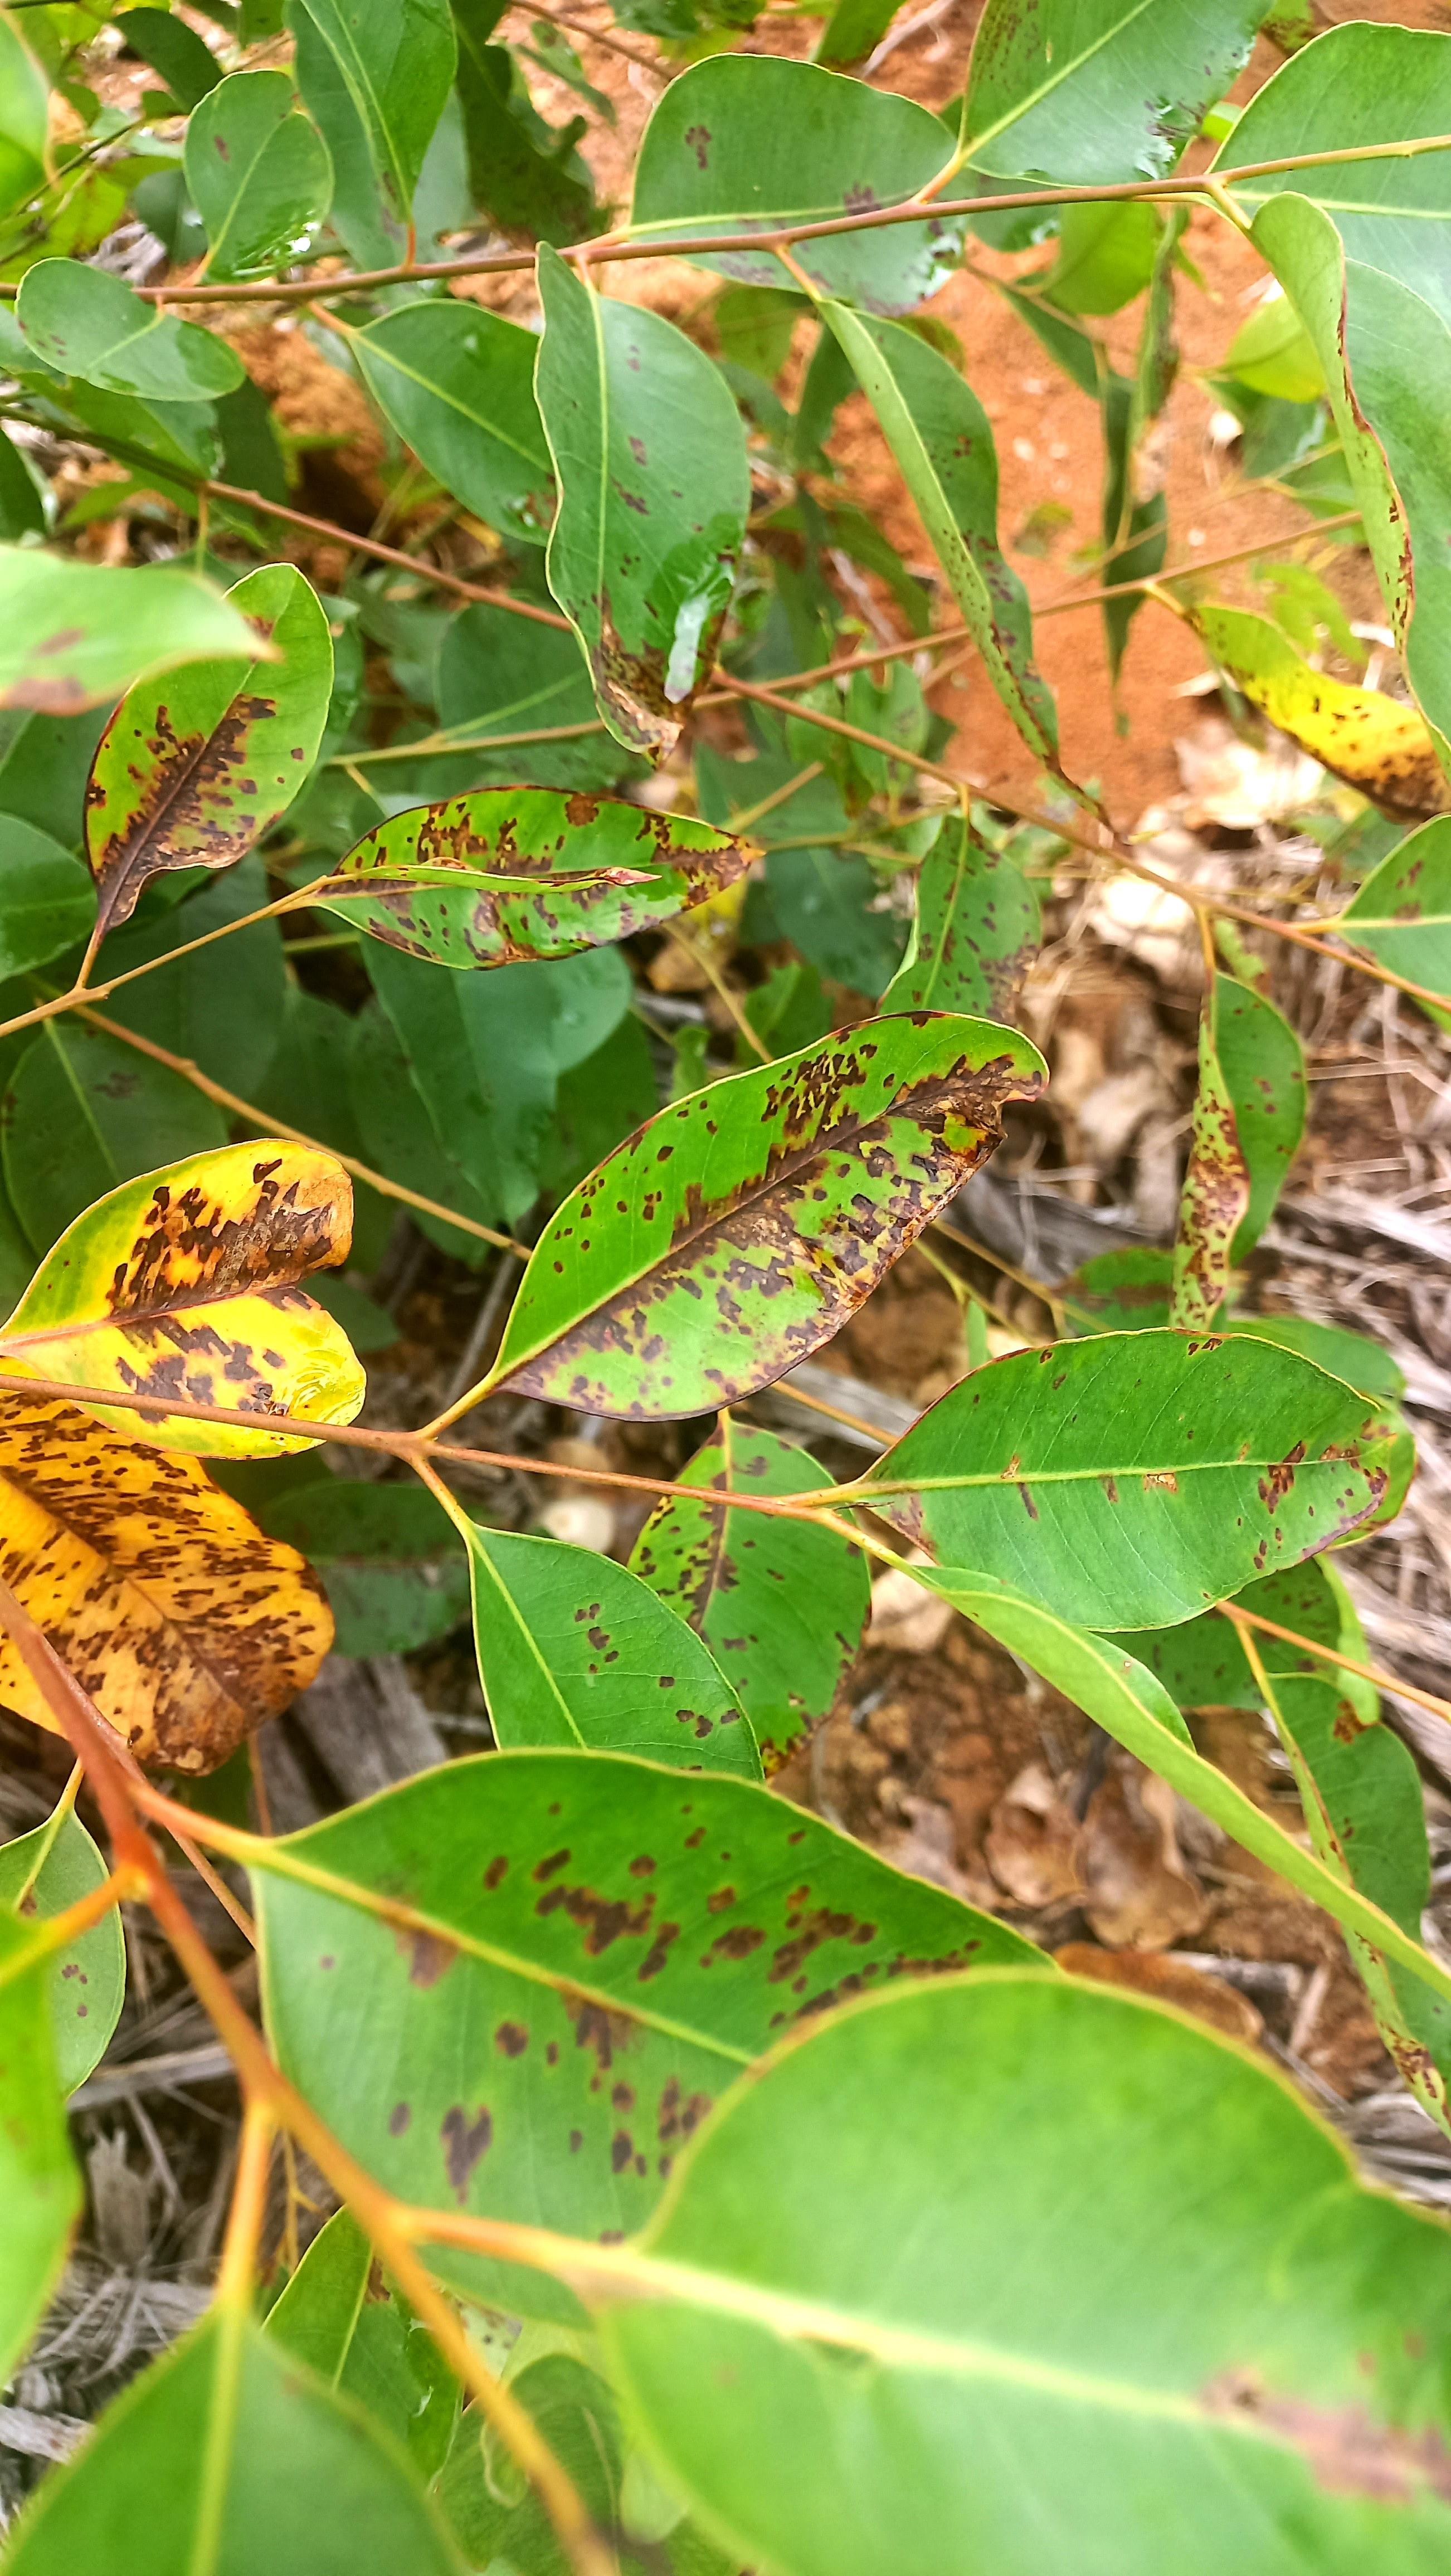Xanthomonas: (506, 1016, 1037, 1467), (357, 1796, 931, 2204), (0, 1444, 310, 1741), (97, 1146, 331, 1453), (78, 662, 301, 931), (359, 793, 752, 936)
